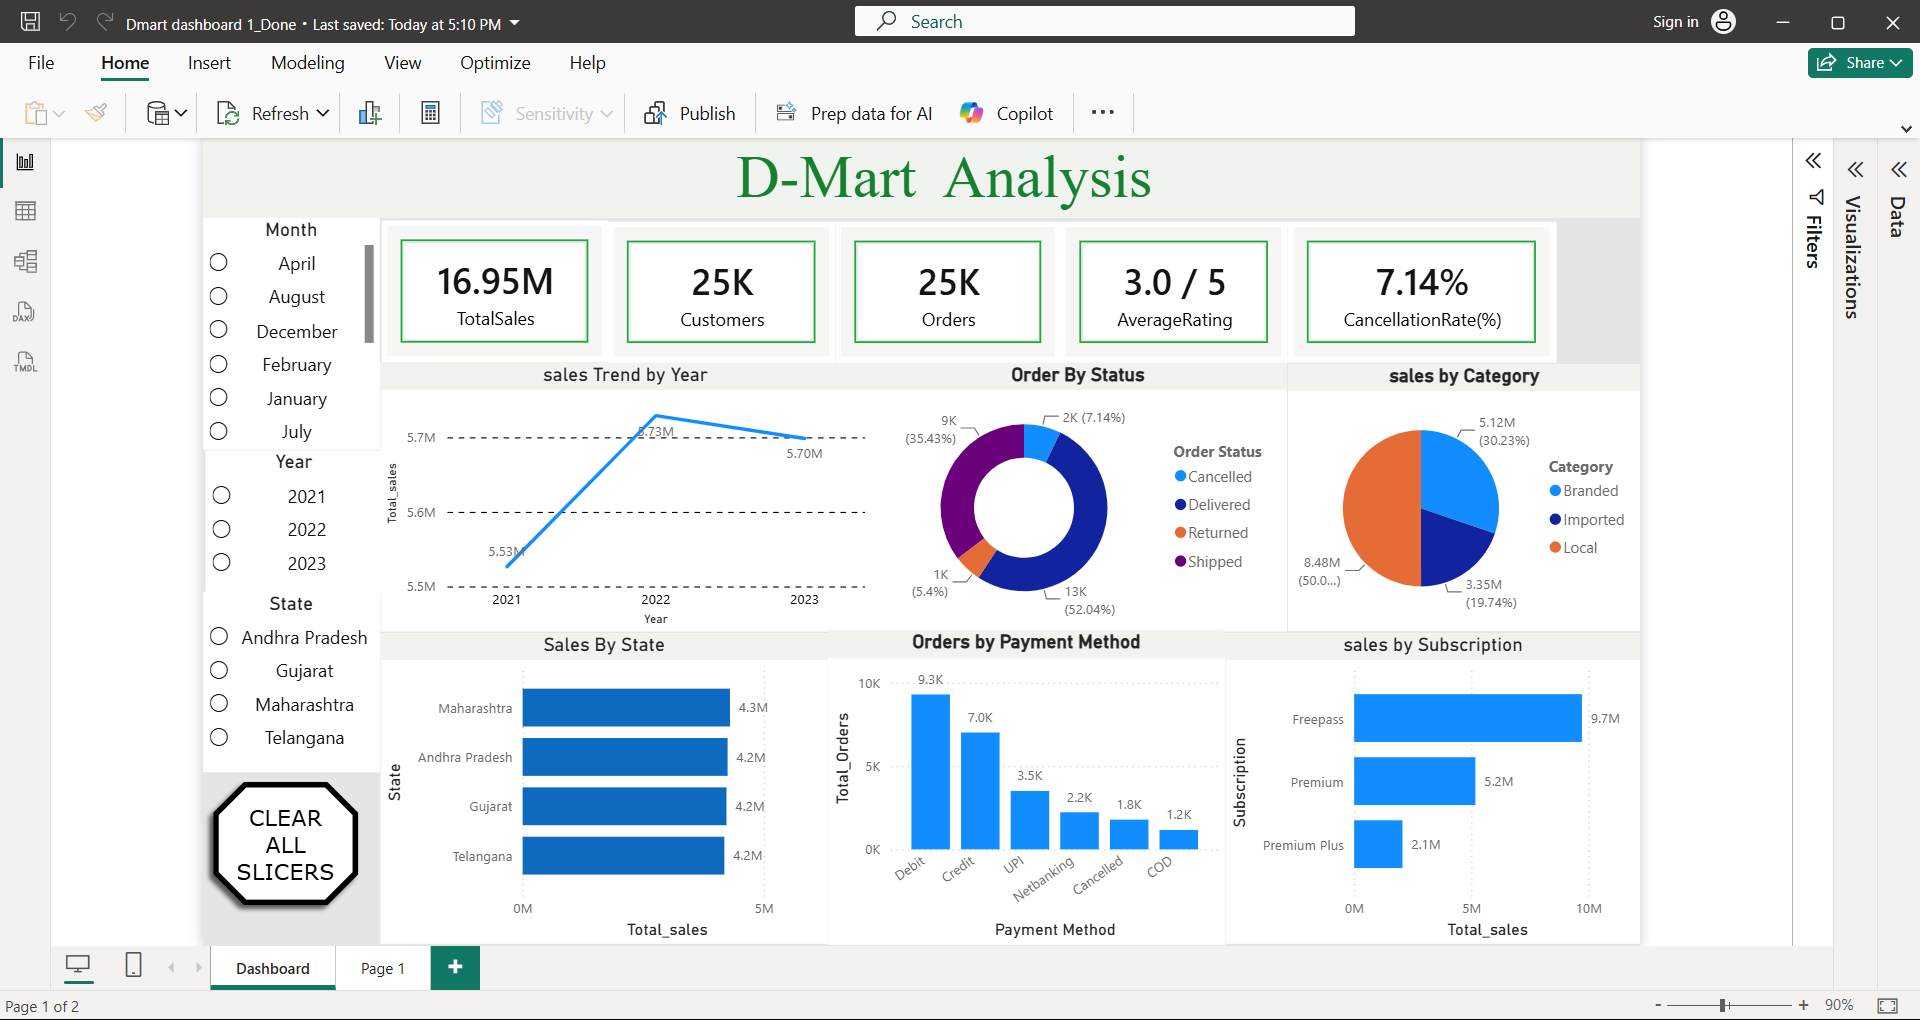

The page's visual inventory and layout, read from the dashboard file:
{"tool":"powerbi","page":{"name":"Dashboard","canvas":[1280,720],"ordinal":0},"visuals":[{"type":"cardVisual","fields":{"Data":["Dmart+Dataset_Tableau.Total_sales"]},"box":[159.4,73.7,201.5,126.4],"z":0},{"type":"cardVisual","fields":{"Data":["Dmart+Dataset_Tableau.Total_customer"]},"box":[360.9,75.1,202,125.7],"z":1000},{"type":"cardVisual","fields":{"Data":["Dmart+Dataset_Tableau.Total_Orders"]},"box":[563,75.1,200.8,125.7],"z":2000},{"type":"cardVisual","fields":{"Data":["Dmart+Dataset_Tableau.Average_Rating_Display"]},"box":[763.8,75.1,202,125.7],"z":3000},{"type":"cardVisual","fields":{"Data":["Dmart+Dataset_Tableau.Cancellation_Rate"]},"box":[965.8,75.1,239,125.7],"z":4000},{"type":"listSlicer","fields":{"Values":["Dmart+Dataset_Tableau.Month"]},"box":[0,71.5,157.3,206.2],"z":5000},{"type":"listSlicer","fields":{"Values":["Dmart+Dataset_Tableau.Year"]},"box":[2.4,277.7,157.3,126.4],"z":6000},{"type":"listSlicer","fields":{"Values":["Dmart+Dataset_Tableau.State"]},"box":[0,404.1,157.3,160.9],"z":7000},{"type":"textbox","box":[0,0,1280.2,71.5],"z":8000},{"type":"lineChart","title":"sales Trend by Year","fields":{"Category":["Dmart+Dataset_Tableau.Year"],"Y":["Dmart+Dataset_Tableau.Total_sales"]},"box":[157.7,200.8,436.1,239],"z":9000},{"type":"donutChart","title":"Order  By Status","fields":{"Category":["Dmart+Dataset_Tableau.Order Status"],"Y":["Dmart+Dataset_Tableau.Total_Orders"]},"box":[593.8,200.8,372.1,239],"z":10000},{"type":"pieChart","title":"sales by Category","fields":{"Y":["Dmart+Dataset_Tableau.Total_sales"],"Series":["Dmart+Dataset_Tableau.Category"]},"box":[965.9,202,314.1,237.8],"z":11000},{"type":"shape","box":[0,564.6,147.2,127.9],"z":12000},{"type":"clusteredBarChart","title":"sales by Subscription","fields":{"Category":["Dmart+Dataset_Tableau.Subscription"],"Y":["Dmart+Dataset_Tableau.Total_sales"]},"box":[910.6,440.8,369.6,277.2],"z":13000},{"type":"clusteredBarChart","title":"Sales  By State","fields":{"Category":["Dmart+Dataset_Tableau.State"],"Y":["Dmart+Dataset_Tableau.Total_sales"]},"box":[158.1,440.8,398.5,277.2],"z":14000},{"type":"clusteredColumnChart","title":"Orders by Payment Method","fields":{"Category":["Dmart+Dataset_Tableau.Payment Method"],"Y":["Dmart+Dataset_Tableau.Total_Orders"]},"box":[556.2,439.1,353.5,279.9],"z":15000}]}

Visuals, with their boxes on the page's 1280x720 design canvas (x1, y1, x2, y2). These are canvas units, not pixel positions in the 1920x1020 screenshot, which may show the page scaled, cropped or inside an application window:
cardVisual - Dmart+Dataset_Tableau.Total_sales: 159, 74, 361, 200
cardVisual - Dmart+Dataset_Tableau.Total_customer: 361, 75, 563, 201
cardVisual - Dmart+Dataset_Tableau.Total_Orders: 563, 75, 764, 201
cardVisual - Dmart+Dataset_Tableau.Average_Rating_Display: 764, 75, 966, 201
cardVisual - Dmart+Dataset_Tableau.Cancellation_Rate: 966, 75, 1205, 201
listSlicer - Dmart+Dataset_Tableau.Month: 0, 72, 157, 278
listSlicer - Dmart+Dataset_Tableau.Year: 2, 278, 160, 404
listSlicer - Dmart+Dataset_Tableau.State: 0, 404, 157, 565
textbox: 0, 0, 1280, 72
"sales Trend by Year" lineChart: 158, 201, 594, 440
"Order  By Status" donutChart: 594, 201, 966, 440
"sales by Category" pieChart: 966, 202, 1280, 440
shape: 0, 565, 147, 692
"sales by Subscription" clusteredBarChart: 911, 441, 1280, 718
"Sales  By State" clusteredBarChart: 158, 441, 557, 718
"Orders by Payment Method" clusteredColumnChart: 556, 439, 910, 719
